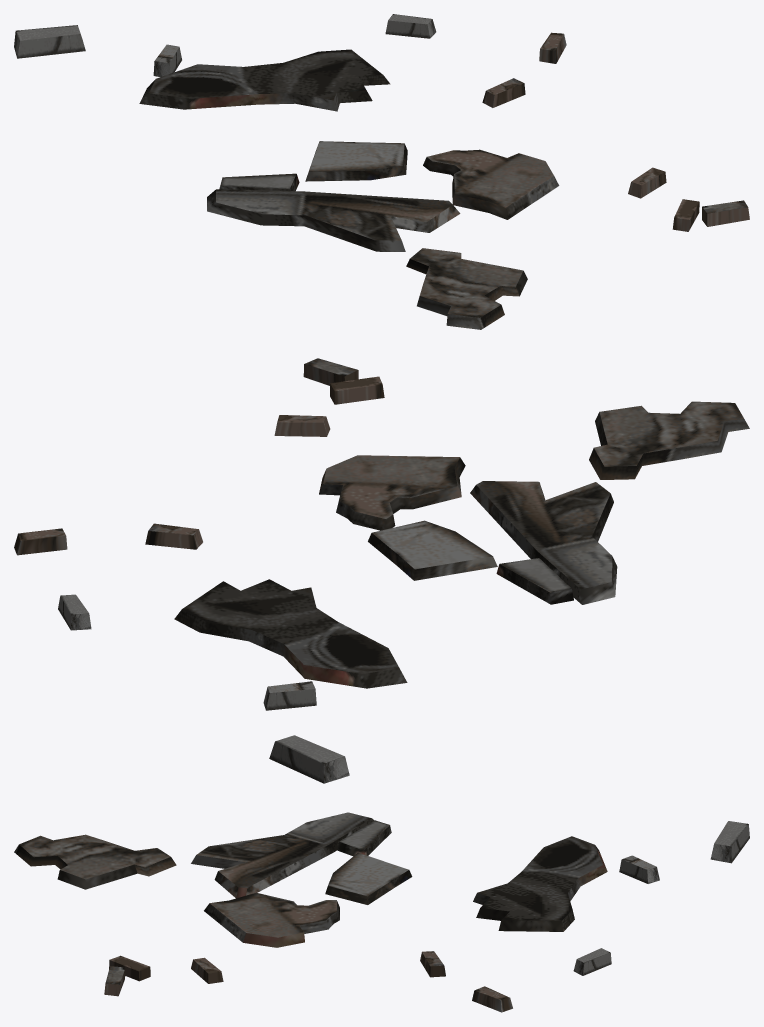
The model's file is bz_trash_02.fbx.
3 renders of one model, top to bottom at view 1: azimuth 30°, elevation 25°; view 2: azimuth 150°, elevation 25°; view 3: azimuth 270°, elevation 25°, orthographic. The views are drawn at different scales.
Visible parts, largest first — view 1: bz_room_junk_02; view 2: bz_room_junk_02; view 3: bz_room_junk_02.
Boxes of the visible parts, <box> form: bz_room_junk_02: <box>14,14,749,329</box>; bz_room_junk_02: <box>14,358,749,783</box>; bz_room_junk_02: <box>14,812,749,1012</box>.
Size of the model in its own units: 4.59 by 0.1914 by 7.46.
